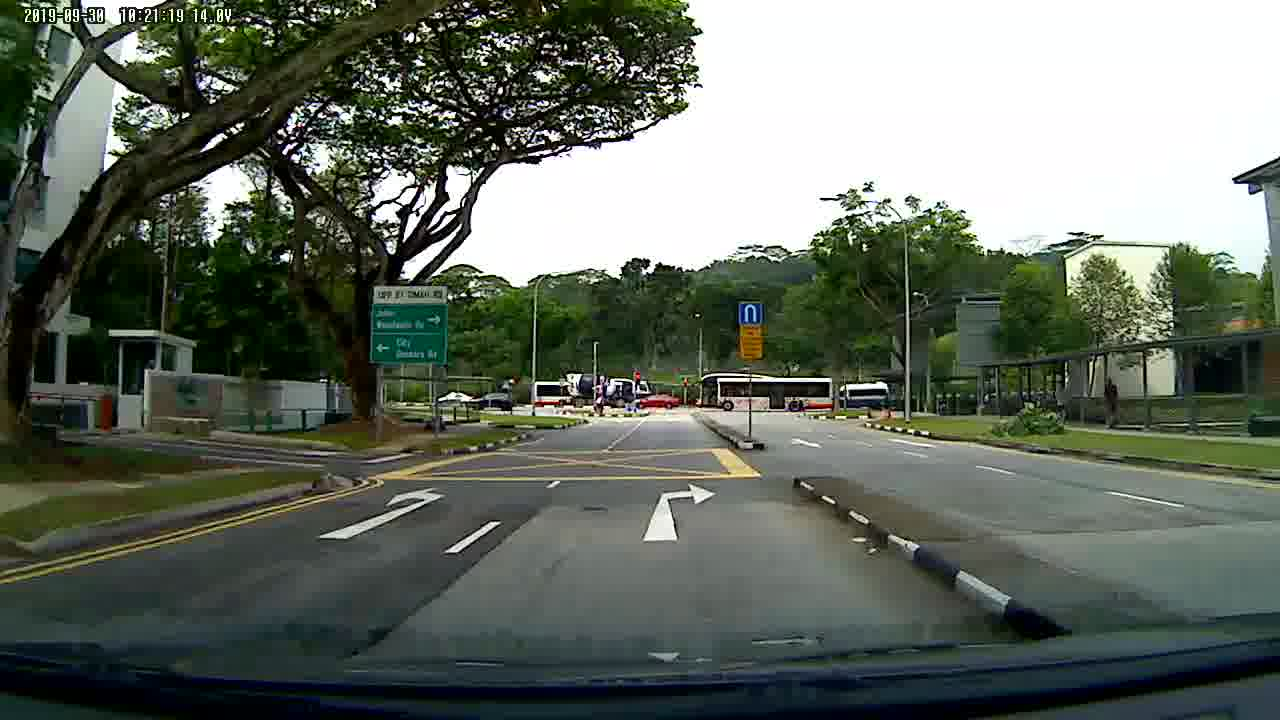bus: (696, 372, 835, 417)
car: (635, 391, 682, 409)
